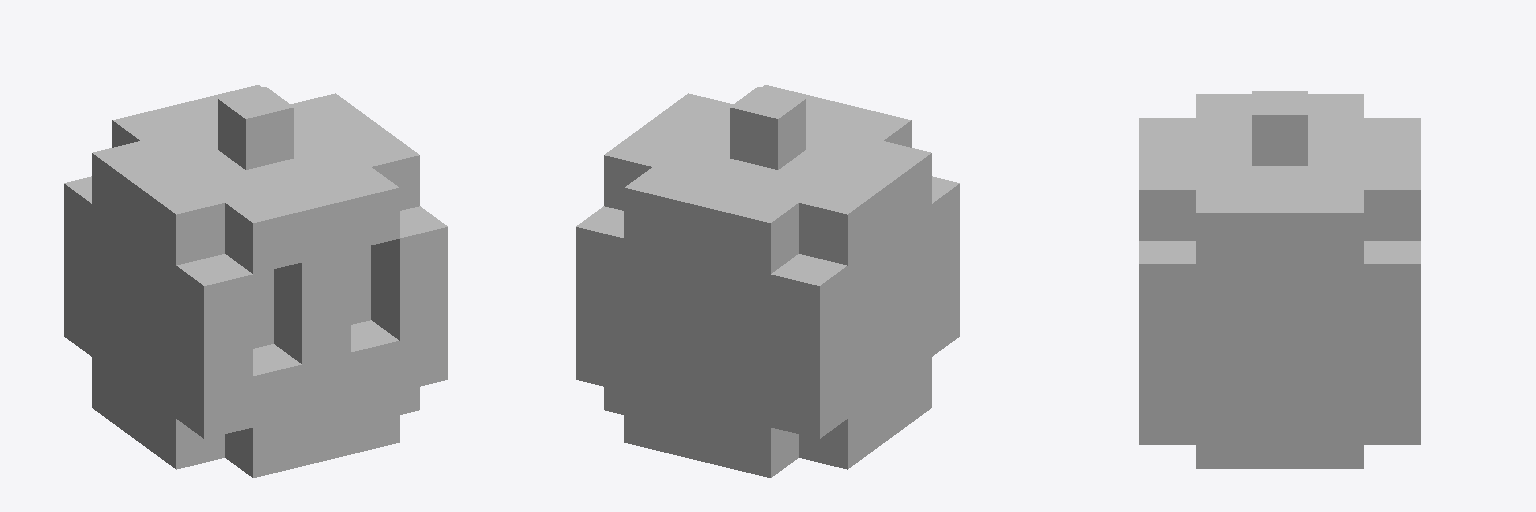
Rendered from Pumpkin.obj.
3 renders of one model, left to right at view 1: azimuth 30°, elevation 25°; view 2: azimuth 150°, elevation 25°; view 3: azimuth 270°, elevation 25°, orthographic.
Visible parts, largest first — view 1: object 1; view 2: object 1; view 3: object 1.
Part boxes in pixels (x1,y1,x2,y2): object 1: (64, 85, 447, 477); object 1: (576, 85, 959, 477); object 1: (1139, 91, 1420, 468).
Size of the model in its own units: 0.5 by 0.6 by 0.5.